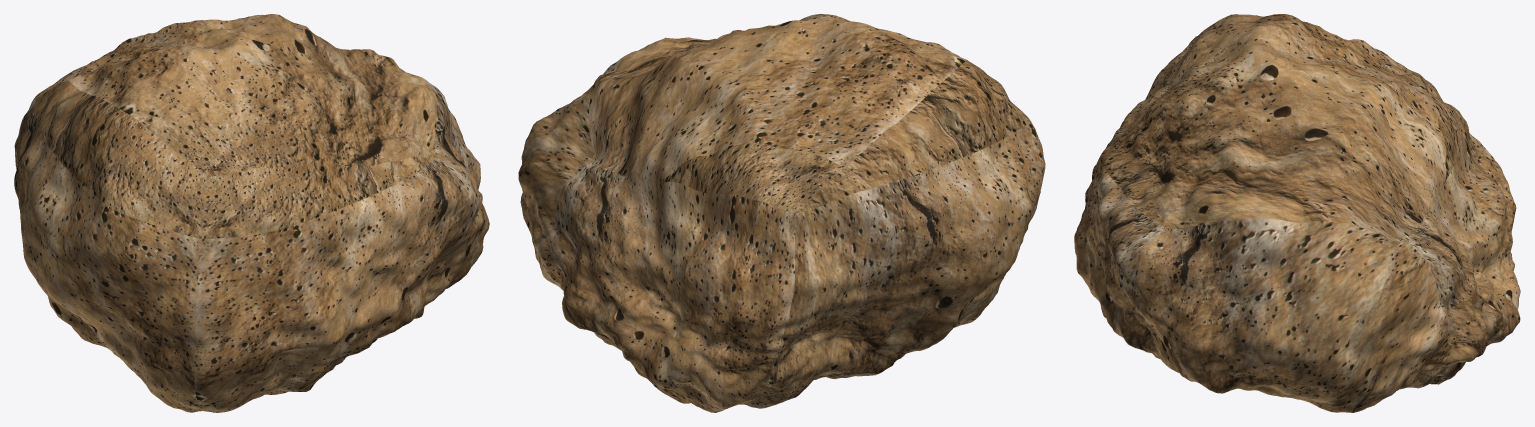
The model's file is Rock1.obj.
3 views of the same model, side by side, from view 1: azimuth 30°, elevation 25°; view 2: azimuth 150°, elevation 25°; view 3: azimuth 270°, elevation 25° (orthographic). The views are drawn at different scales.
Visible parts, largest first — view 1: Cube; view 2: Cube; view 3: Cube.
Boxes of the visible parts, x1,y1,x2,y2 form: Cube: (14,14,489,412); Cube: (518,14,1045,412); Cube: (1074,14,1520,412).
Bounding box in the file's own units: 194 × 135 × 174.
